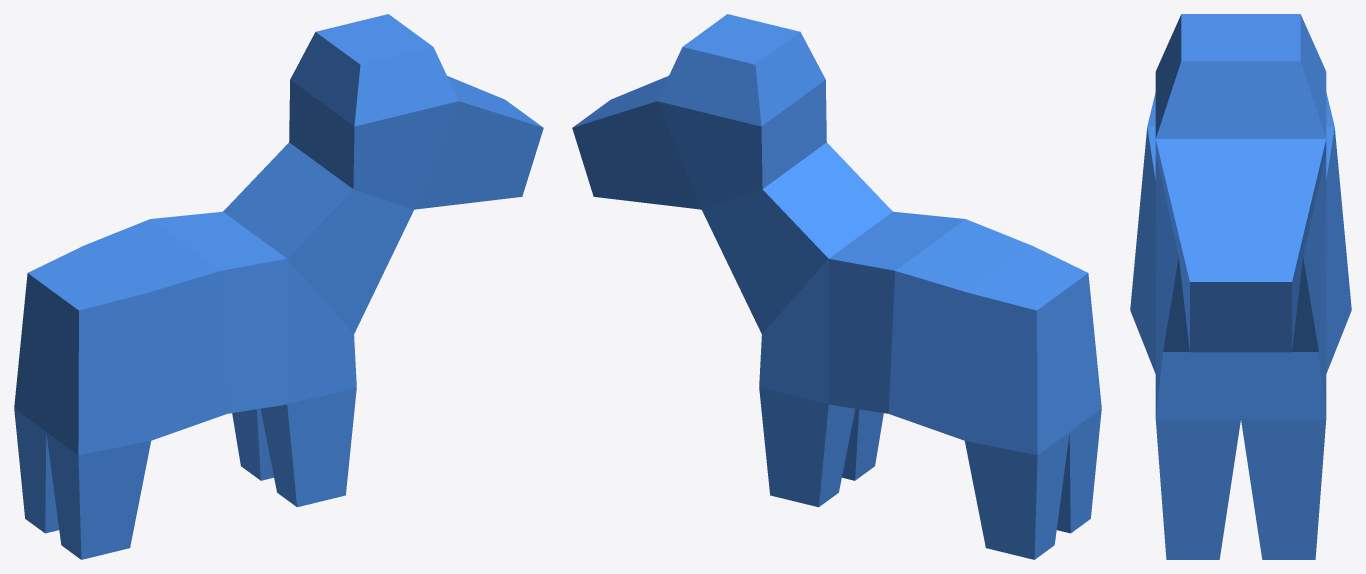
The model's file is isodog.gltf.
The picture shows the model from 3 angles, left to right: view 1: azimuth 30°, elevation 25°; view 2: azimuth 150°, elevation 25°; view 3: azimuth 270°, elevation 25°; orthographic projection. The views are drawn at different scales.
Visible parts, largest first — view 1: Cube; view 2: Cube; view 3: Cube.
Boxes of the visible parts, x1,y1,x2,y2 form: Cube: (14,14,543,559); Cube: (572,14,1101,559); Cube: (1130,14,1351,559).
Bounding box in the file's own units: 6.87 × 5.79 × 2.08.
